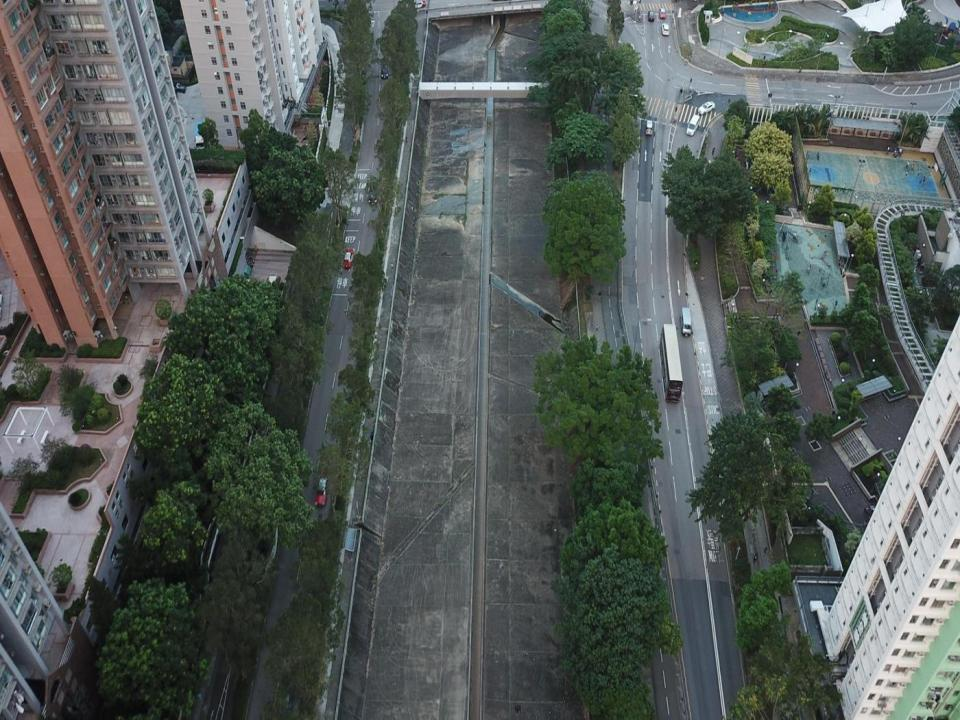bus: (660, 323, 682, 402)
car: (315, 472, 328, 507), (194, 121, 205, 150), (687, 114, 700, 136), (166, 80, 186, 94), (698, 101, 715, 114), (343, 248, 354, 268), (368, 182, 377, 206), (380, 57, 388, 80), (645, 119, 652, 135), (662, 22, 669, 36), (414, 0, 426, 8), (659, 8, 666, 19), (648, 11, 654, 22)
van: (680, 306, 692, 336)
